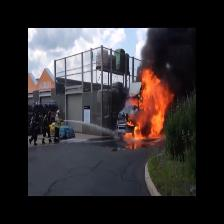fire: (132, 81, 168, 142)
smoke: (149, 30, 192, 80)
